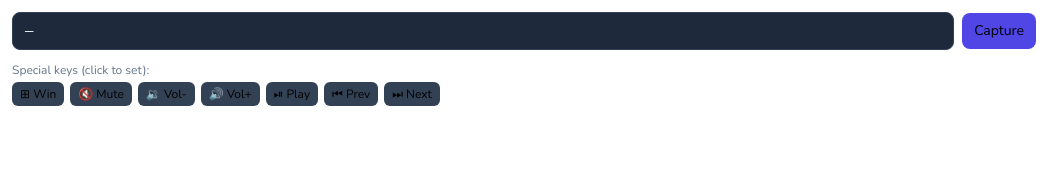
Test case: KeyCapture › entra e sai do modo de captura ao clicar no botão
Click the button "Capture" at (999, 31), box [962,13,1036,49]
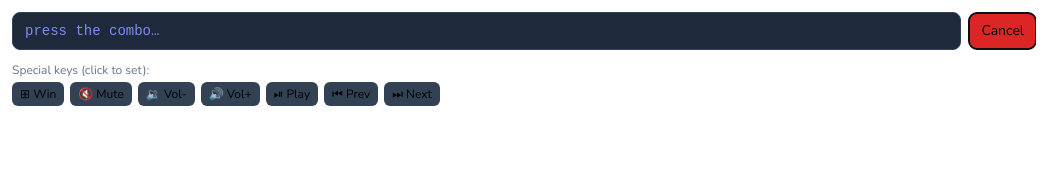
Expected: the text "press the combo…" is shown, [25,23,159,39]
Click the button "Cancel" at (1003, 31), box [970,13,1036,49]
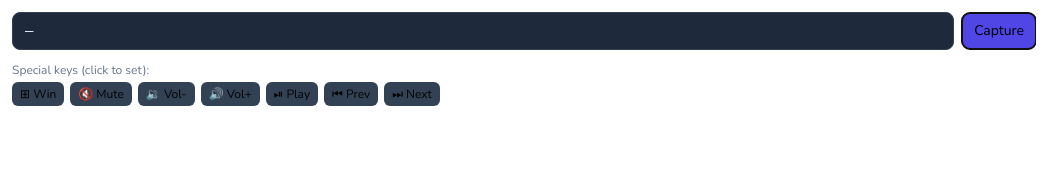
Expected: the button "Capture" is shown, [962,13,1036,49]
